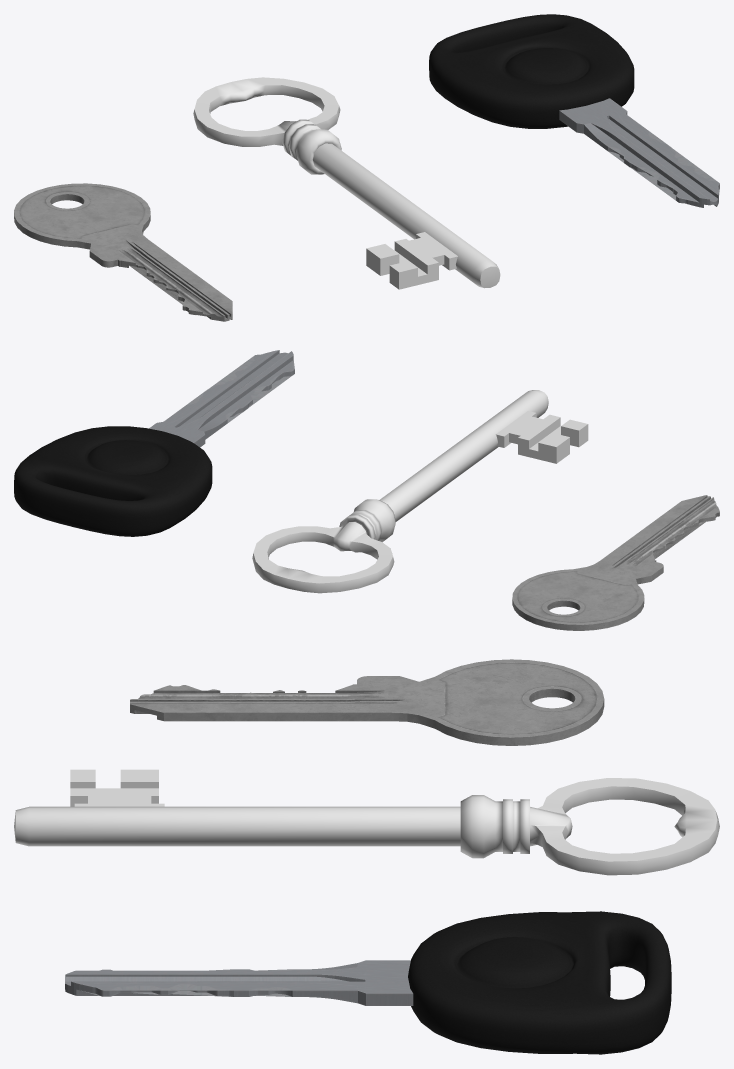
Rendered from Key_Pack.fbx.
3 renders of one model, top to bottom at view 1: azimuth 30°, elevation 25°; view 2: azimuth 150°, elevation 25°; view 3: azimuth 270°, elevation 25°, orthographic. The views are drawn at different scales.
Parts seen in each view (by area): view 1: Key3_1, Key2, Key1, Key3_2; view 2: Key3_1, Key2, Key1, Key3_2; view 3: Key2, Key3_1, Key1, Key3_2.
Boxes of the visible parts, bbox=[...] form: Key3_1: bbox=[429, 14, 634, 128]; Key2: bbox=[193, 77, 500, 289]; Key1: bbox=[14, 183, 232, 321]; Key3_2: bbox=[559, 98, 719, 207]; Key3_1: bbox=[14, 426, 212, 536]; Key2: bbox=[252, 390, 588, 593]; Key1: bbox=[512, 495, 719, 630]; Key3_2: bbox=[149, 350, 294, 447]; Key2: bbox=[14, 769, 719, 875]; Key3_1: bbox=[408, 911, 671, 1054]; Key1: bbox=[130, 659, 604, 745]; Key3_2: bbox=[65, 960, 413, 1005].
Size of the model in its own units: 499 by 36.34 by 371.
